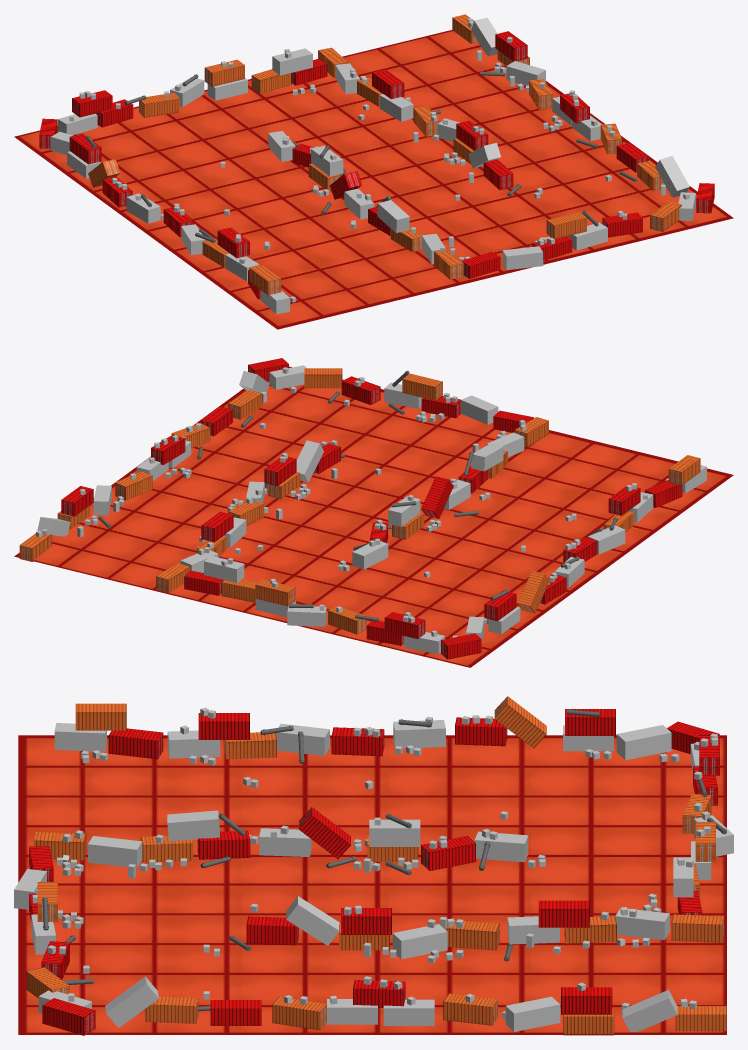
File: Background.obj
3 renders of one model, top to bottom at view 1: azimuth 30°, elevation 25°; view 2: azimuth 150°, elevation 25°; view 3: azimuth 270°, elevation 25°, orthographic. The views are drawn at different scales.
Visible parts, largest first — view 1: Plane001, Box038, Box019, Box036, Box052, Box054, Box056, Box071, Box050, Box034, Box041, Box051 (+37 smaller); view 2: Plane001, Box045, Box060, Box036, Box059, Box033, Box056, Box052, Box034, Box071, Box028, Box012 (+34 smaller); view 3: Plane001, Box063, Box011, Box074, Box021, Box043, Box031, Box008, Box025, Box075, Box012, Box041 (+52 smaller).
Part boxes in pixels (left/top/right/bottom): Plane001: left=14, top=30, right=733, bottom=329; Box038: left=502, top=246, right=543, bottom=270; Box019: left=655, top=155, right=689, bottom=197; Box036: left=546, top=212, right=586, bottom=238; Box052: left=272, top=48, right=312, bottom=75; Box054: left=139, top=92, right=179, bottom=117; Box056: left=204, top=59, right=244, bottom=86; Box071: left=72, top=90, right=112, bottom=117; Box050: left=461, top=252, right=500, bottom=278; Box034: left=602, top=212, right=642, bottom=237; Box041: left=377, top=200, right=409, bottom=233; Box051: left=251, top=69, right=291, bottom=93; Plane001: left=14, top=366, right=733, bottom=667; Box045: left=421, top=476, right=453, bottom=518; Box060: left=517, top=570, right=549, bottom=613; Box036: left=402, top=373, right=442, bottom=400; Box059: left=441, top=633, right=481, bottom=659; Box033: left=304, top=368, right=342, bottom=388; Box056: left=255, top=579, right=295, bottom=606; Box052: left=204, top=556, right=244, bottom=582; Box034: left=341, top=376, right=380, bottom=404; Box071: left=384, top=612, right=425, bottom=638; Box028: left=296, top=440, right=323, bottom=482; Box012: left=115, top=471, right=152, bottom=500; Plane001: left=18, top=735, right=726, bottom=1034; Box063: left=616, top=725, right=671, bottom=760; Box011: left=505, top=996, right=560, bottom=1031; Box074: left=108, top=728, right=163, bottom=759; Box021: left=42, top=998, right=95, bottom=1035; Box043: left=88, top=836, right=142, bottom=868; Box031: left=392, top=924, right=447, bottom=959; Box008: left=622, top=990, right=677, bottom=1031; Box025: left=538, top=900, right=589, bottom=927; Box075: left=75, top=703, right=126, bottom=730; Box012: left=443, top=993, right=497, bottom=1025; Box041: left=167, top=810, right=219, bottom=841.
Bounding box in the file's own units: 101 × 7.61 × 102.
